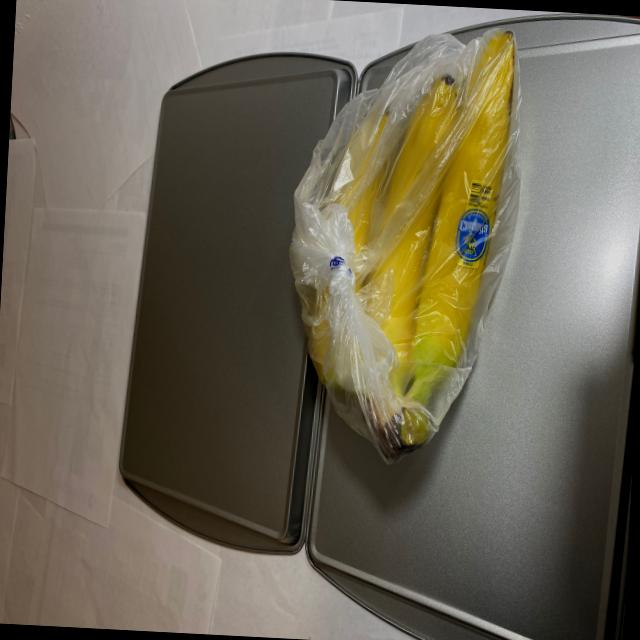banana: (286, 15, 536, 468)
